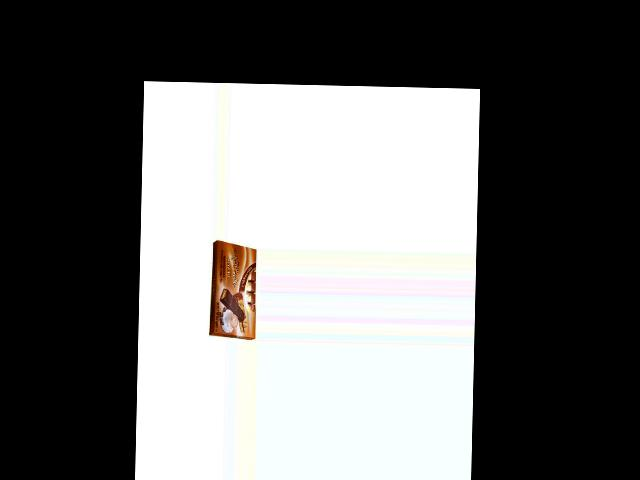chocolate: (209, 238, 258, 340)
